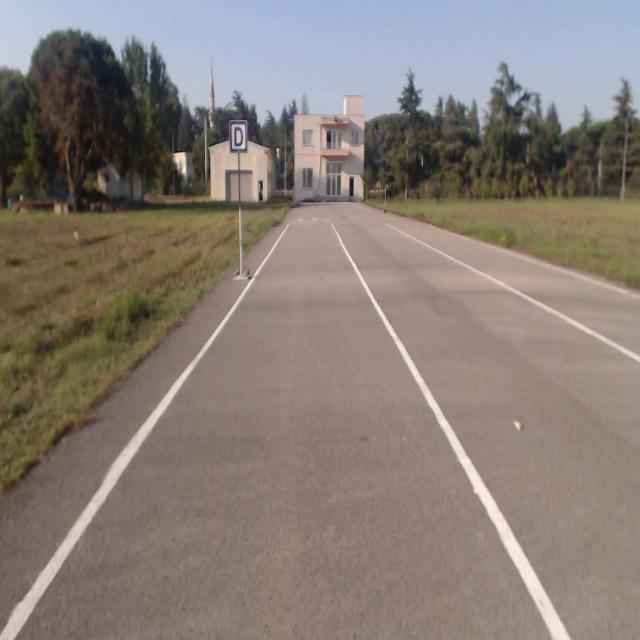durak: (229, 120, 246, 153)
